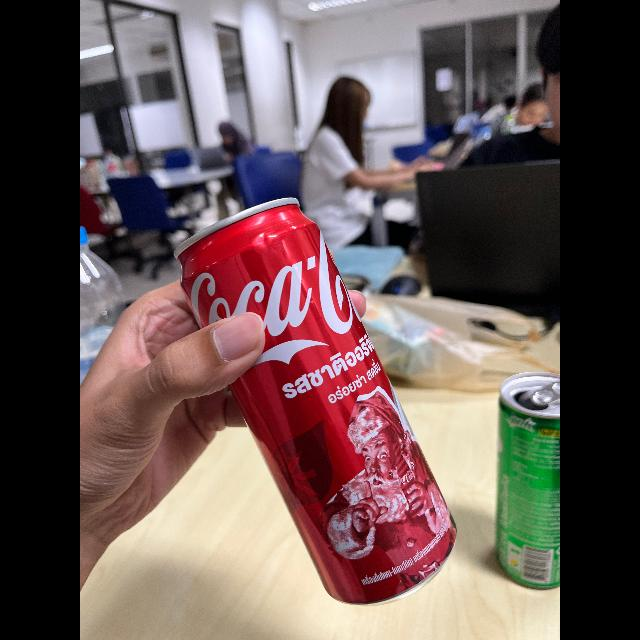can: (163, 190, 463, 604), (492, 361, 560, 595)
